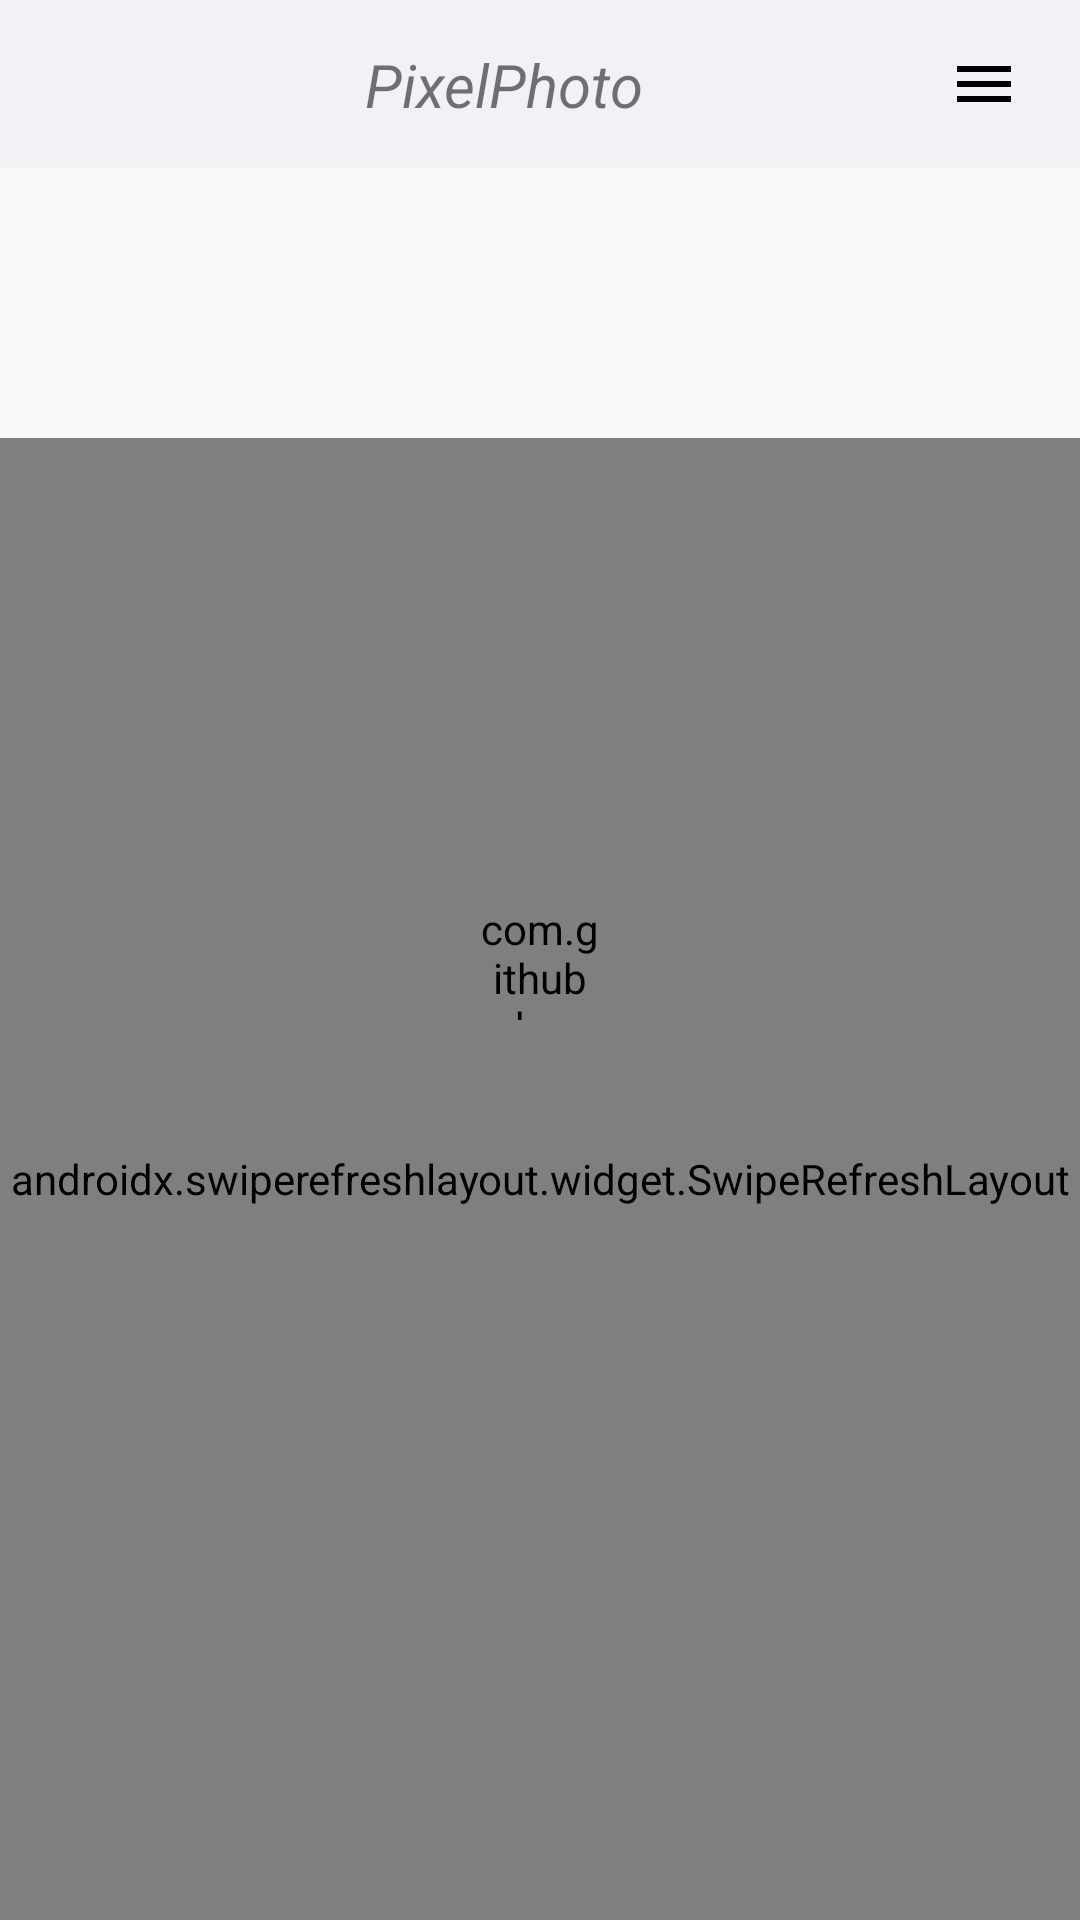

Point at icon controls on the screen. Image size 1080 x 1920, points as [x,y].
menu: [984,84]
